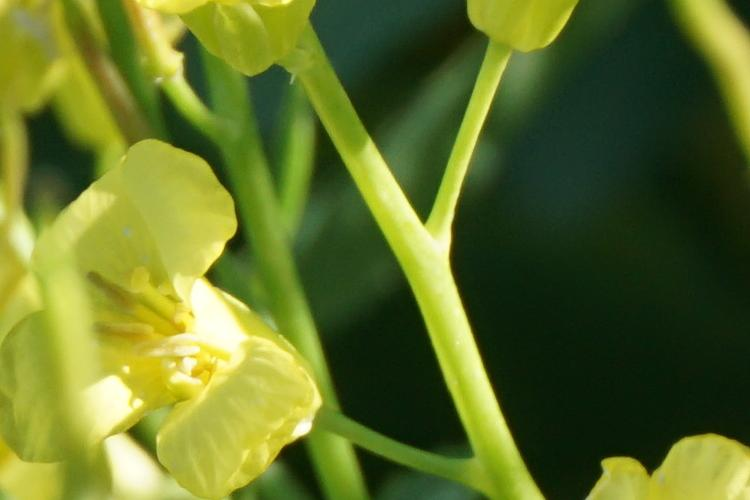yellow: (41, 147, 341, 485)
